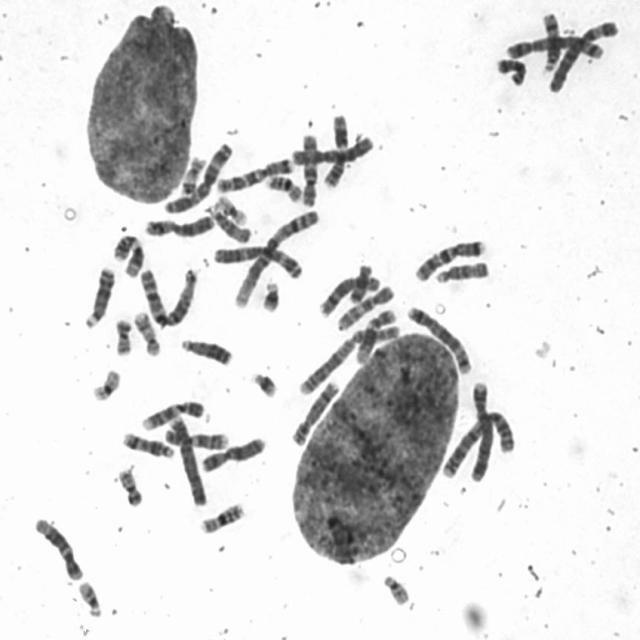A1: (230, 205, 322, 308), (137, 261, 200, 328)
A2: (295, 319, 403, 396), (438, 406, 518, 481)
A3: (160, 138, 235, 215), (209, 239, 306, 281)
B4: (164, 411, 208, 507), (467, 377, 495, 482)
B5: (404, 300, 474, 376), (503, 30, 608, 61)
C10: (333, 280, 396, 332), (298, 130, 320, 207)
C11: (321, 109, 352, 190), (110, 230, 146, 278)
C12: (30, 511, 86, 582), (351, 303, 398, 365)
C6: (546, 15, 621, 94), (287, 130, 375, 167)
C7: (410, 234, 490, 283), (212, 153, 295, 193)
C8: (288, 376, 342, 448), (314, 270, 380, 318)
C9: (139, 395, 208, 432), (160, 424, 230, 451)
D13: (80, 262, 116, 330), (178, 333, 236, 368)
D14: (118, 427, 176, 460), (537, 7, 563, 73)
D15: (205, 201, 254, 244), (431, 256, 491, 285)
E16: (197, 498, 247, 536), (263, 170, 305, 203)
E17: (130, 306, 163, 358), (176, 152, 206, 198)
E18: (346, 259, 374, 304), (492, 52, 528, 86)
F19: (213, 190, 250, 227), (88, 364, 123, 402)
F20: (114, 464, 145, 508), (111, 314, 134, 358)
G21: (248, 366, 280, 399), (258, 276, 283, 314)
G22: (379, 570, 413, 606), (75, 576, 104, 618)
X: (198, 432, 268, 473), (141, 210, 217, 239)
